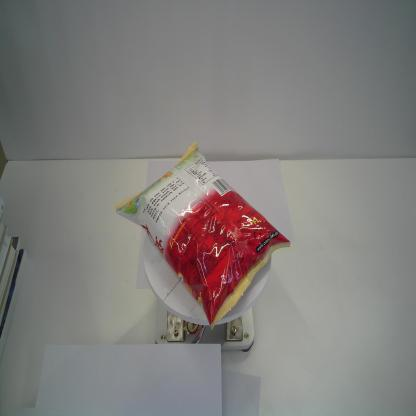Puffed Food: (113, 140, 294, 332)
